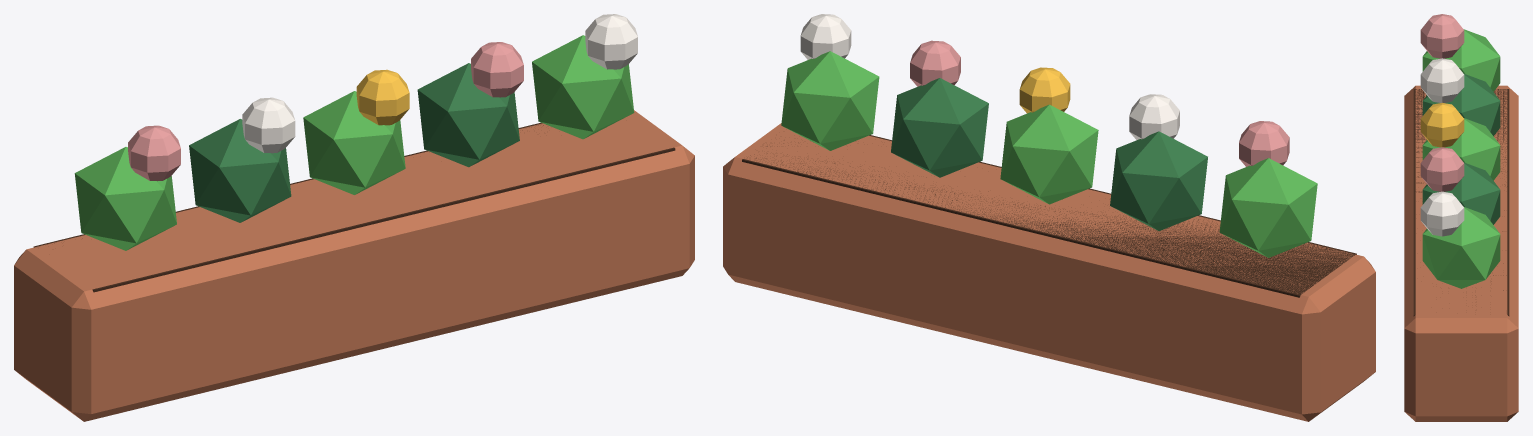
File: CatCafe_Decor_WindowPlants.glb
3 renders of one model, left to right at view 1: azimuth 30°, elevation 25°; view 2: azimuth 150°, elevation 25°; view 3: azimuth 270°, elevation 25°, orthographic. The views are drawn at different scales.
Parts seen in each view (by area): view 1: CatCafe_Decor_WindowPlants; view 2: CatCafe_Decor_WindowPlants; view 3: CatCafe_Decor_WindowPlants.
Part boxes in pixels (bbox=[...]): CatCafe_Decor_WindowPlants: bbox=[14, 14, 694, 421]; CatCafe_Decor_WindowPlants: bbox=[723, 14, 1375, 421]; CatCafe_Decor_WindowPlants: bbox=[1404, 14, 1518, 421].
Bounding box in the file's own units: 3 × 1.2 × 0.6.
Materials: 1 (1 with a texture image).
